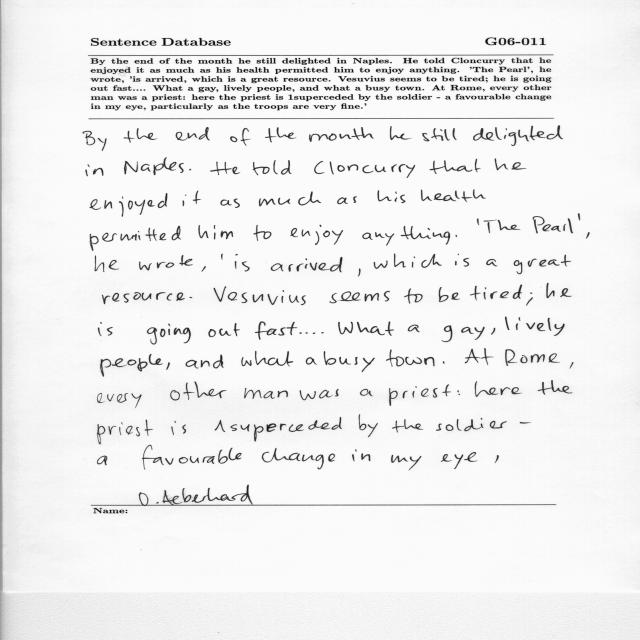word: (215, 417, 342, 442), (142, 445, 242, 470), (90, 226, 181, 251), (90, 193, 167, 217), (473, 126, 563, 146), (362, 226, 450, 246), (214, 287, 306, 306), (314, 161, 415, 178), (262, 448, 335, 469), (101, 354, 163, 377), (97, 420, 153, 445), (389, 385, 451, 407), (505, 317, 565, 336), (514, 255, 571, 274), (170, 382, 227, 401), (271, 257, 343, 272), (324, 351, 375, 372), (290, 225, 343, 245), (124, 158, 184, 175), (374, 254, 442, 269), (102, 292, 185, 304), (309, 127, 374, 142), (505, 349, 560, 366), (259, 192, 321, 207), (147, 324, 191, 345), (436, 418, 507, 431), (139, 255, 193, 271), (386, 349, 434, 367), (338, 321, 394, 336), (470, 285, 522, 301), (255, 321, 297, 340), (421, 190, 486, 202), (242, 351, 294, 366), (430, 159, 481, 174), (475, 381, 522, 397), (329, 291, 390, 303), (442, 326, 485, 343), (533, 216, 573, 234), (98, 393, 142, 408), (441, 452, 478, 469), (253, 160, 291, 175), (186, 355, 224, 369), (124, 128, 158, 143), (538, 380, 572, 395), (175, 127, 210, 141), (422, 128, 457, 142), (198, 225, 233, 239), (244, 388, 288, 399), (484, 220, 521, 233), (83, 131, 107, 151), (265, 128, 296, 143), (465, 349, 494, 365), (391, 455, 421, 470), (208, 323, 240, 337), (392, 419, 423, 433), (300, 389, 339, 400), (359, 415, 378, 437), (210, 162, 240, 175), (546, 283, 572, 298), (95, 256, 119, 272), (230, 128, 251, 146), (495, 159, 526, 171), (378, 190, 406, 203), (439, 287, 460, 302), (390, 126, 412, 140), (404, 288, 423, 304), (254, 225, 272, 241), (183, 191, 202, 206), (235, 254, 250, 271), (86, 165, 104, 177), (352, 450, 370, 462), (98, 322, 113, 336), (172, 421, 186, 435), (455, 254, 469, 267), (220, 199, 240, 208), (337, 197, 357, 205), (98, 456, 108, 466), (526, 293, 533, 306), (360, 389, 373, 396), (306, 357, 317, 365), (486, 259, 498, 266), (408, 325, 420, 332), (166, 362, 170, 370), (495, 455, 499, 463), (300, 332, 315, 334), (586, 232, 590, 239), (491, 328, 495, 335), (570, 362, 574, 369), (202, 266, 206, 272), (358, 269, 361, 277), (457, 390, 460, 395), (477, 219, 479, 225), (578, 214, 580, 220), (221, 254, 223, 260), (520, 422, 531, 423), (443, 361, 445, 364), (190, 169, 192, 171), (455, 235, 457, 237), (190, 297, 193, 298), (321, 332, 324, 333)
